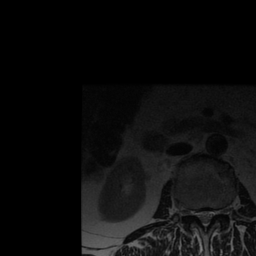CCS_normal: (202, 202, 208, 237)
LFS_stenosis: (216, 200, 224, 222)
LLS_stenosis: (208, 201, 216, 225)
RFS_stenosis: (186, 200, 193, 223)
RLS_stenosis: (193, 202, 202, 225)
